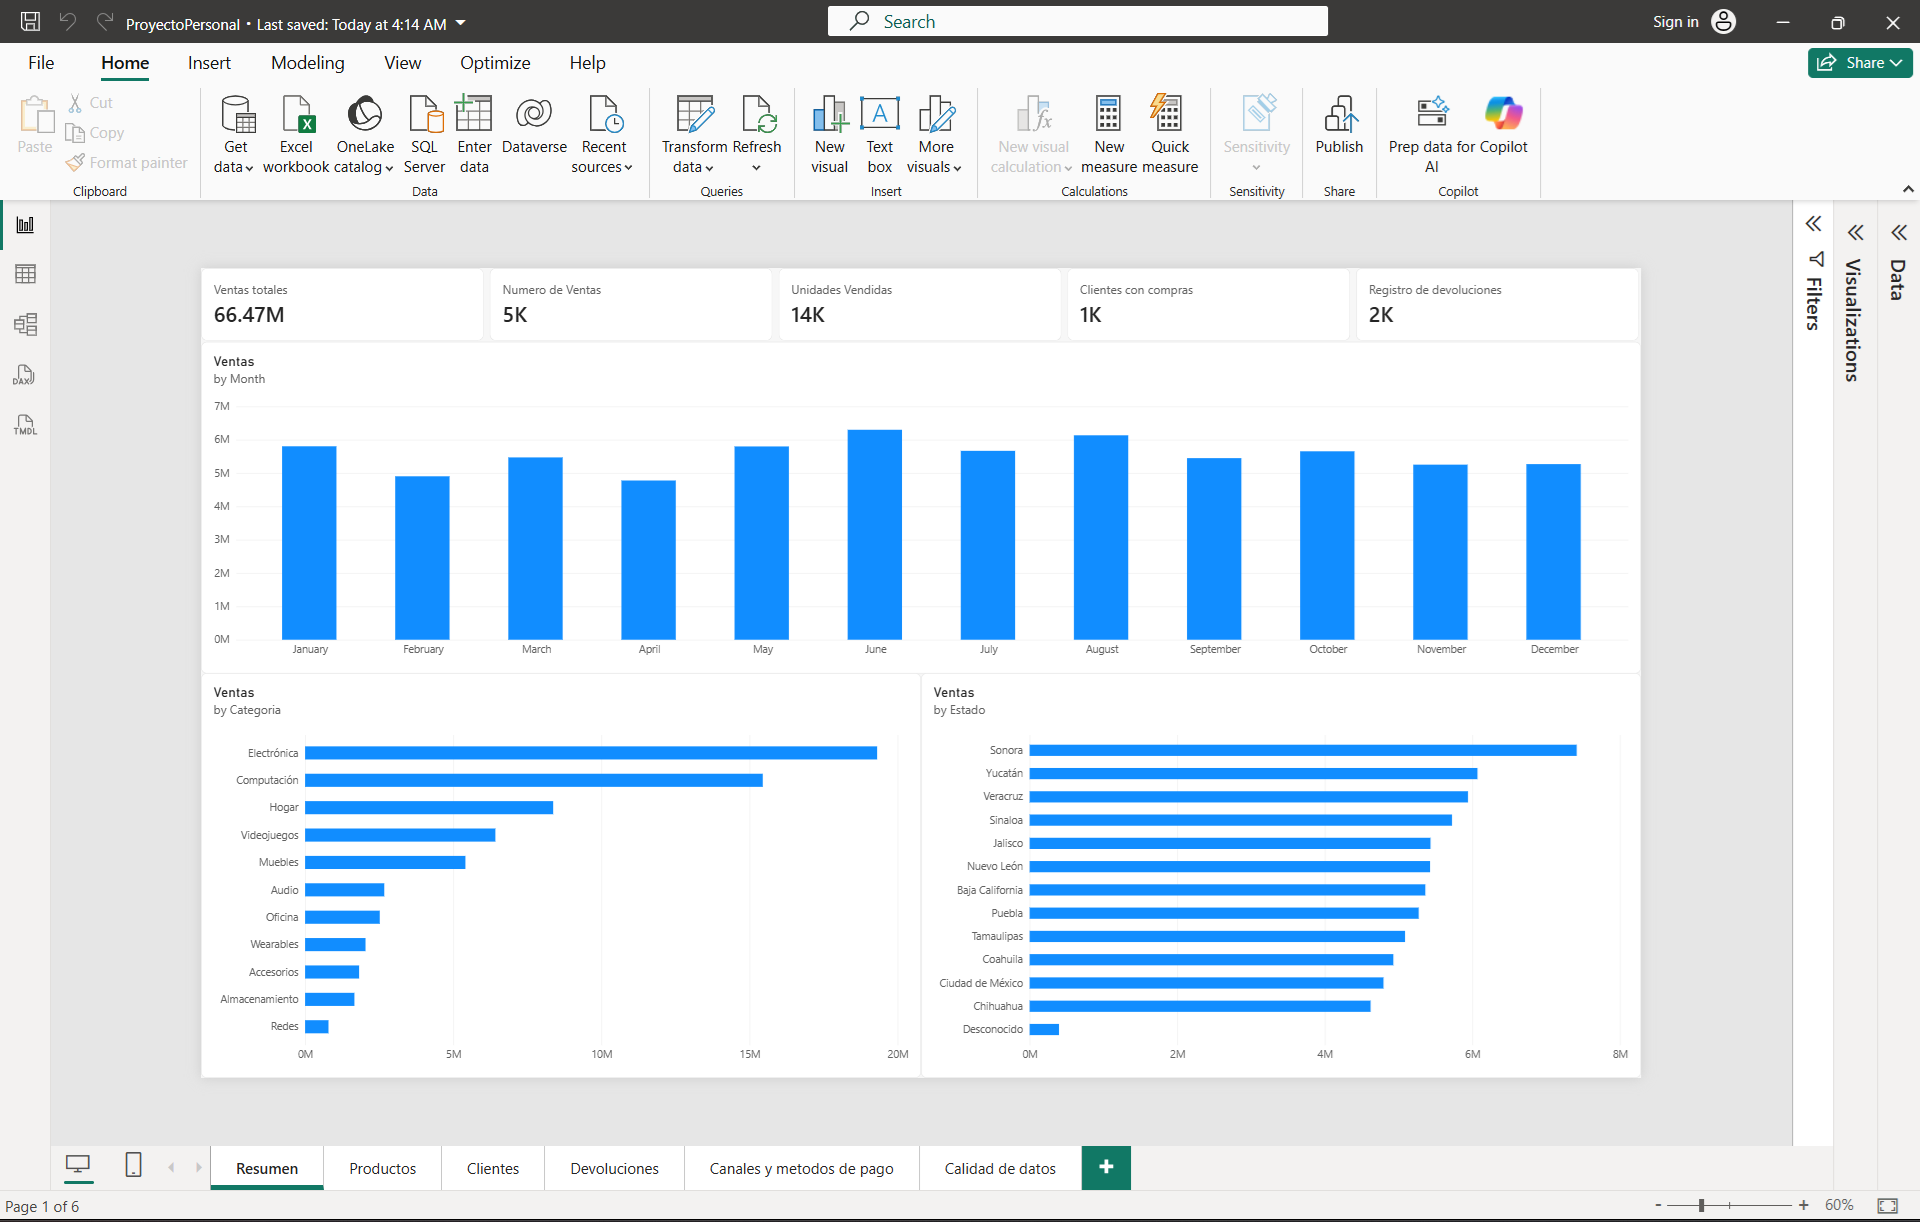

Layout of this report page (visuals, bound fields, positions):
{"tool":"powerbi","page":{"name":"Resumen","canvas":[1920,1080],"ordinal":0},"visuals":[{"type":"cardVisual","fields":{"Data":["VentasLimpias.VentasTotales","VentasLimpias.Numero de Ventas globales","VentasLimpias.Unidades Vendidas globales","VentasLimpias.Clientes con Compras globales","Devoluciones.Devoluciones Totales global"]},"box":[0,0,1920,97.5],"z":0},{"type":"clusteredColumnChart","fields":{"Category":["VentasLimpias.FechaVenta.Variation.Date Hierarchy.Month"],"Y":["VentasLimpias.Ventas Dinamicas"]},"box":[0,97.5,1920,442.5],"z":1000},{"type":"clusteredBarChart","fields":{"Category":["ClientesLimpios.Estado"],"Y":["VentasLimpias.Ventas Dinamicas"]},"box":[960,540,960,540],"z":2000},{"type":"clusteredBarChart","fields":{"Category":["VentasLimpias.Categoria"],"Y":["VentasLimpias.Ventas Dinamicas"]},"box":[0,540,960,540],"z":3000}]}

Visuals, with their boxes on the page's 1920x1080 design canvas (x1, y1, x2, y2). These are canvas units, not pixel positions in the 1920x1222 screenshot, which may show the page scaled, cropped or inside an application window:
cardVisual - VentasLimpias.VentasTotales x VentasLimpias.Numero de Ventas globales: (0, 0, 1920, 98)
clusteredColumnChart - VentasLimpias.FechaVenta.Variation.Date Hierarchy.Month x VentasLimpias.Ventas Dinamicas: (0, 98, 1920, 540)
clusteredBarChart - ClientesLimpios.Estado x VentasLimpias.Ventas Dinamicas: (960, 540, 1920, 1080)
clusteredBarChart - VentasLimpias.Categoria x VentasLimpias.Ventas Dinamicas: (0, 540, 960, 1080)
